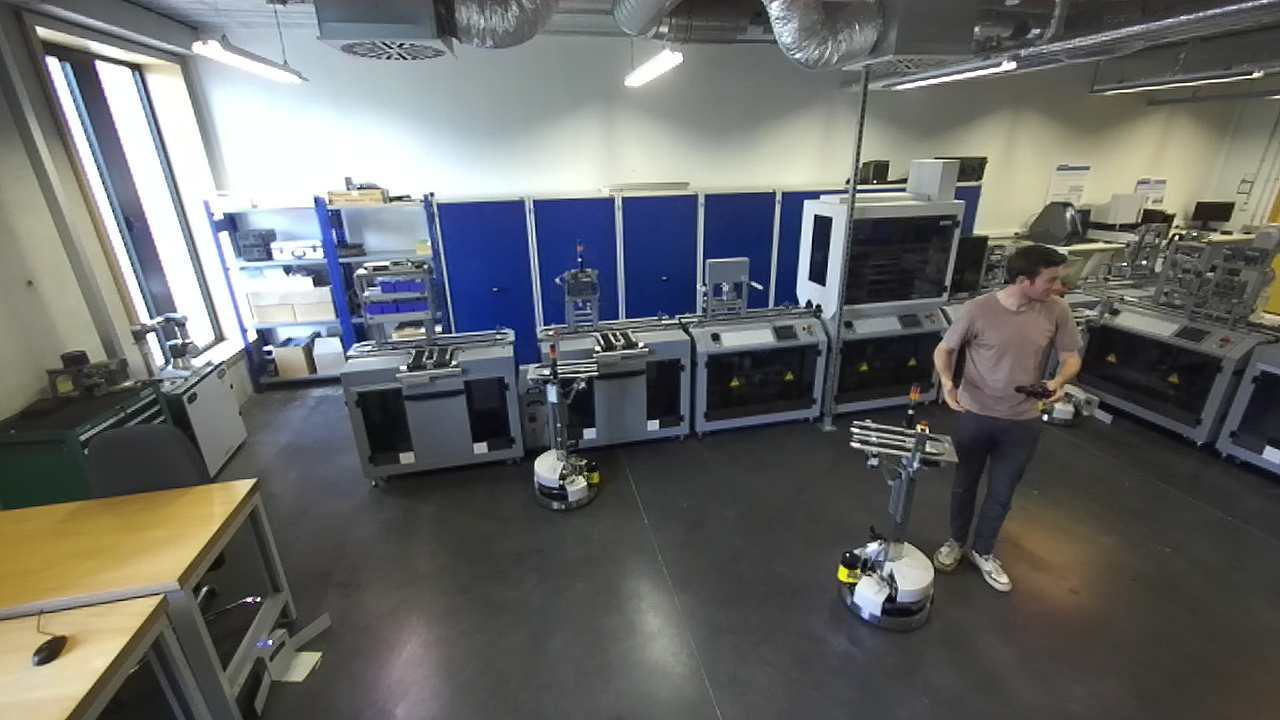AMR: (833, 380, 958, 633), (520, 328, 604, 511)
Human: (931, 237, 1082, 595)
